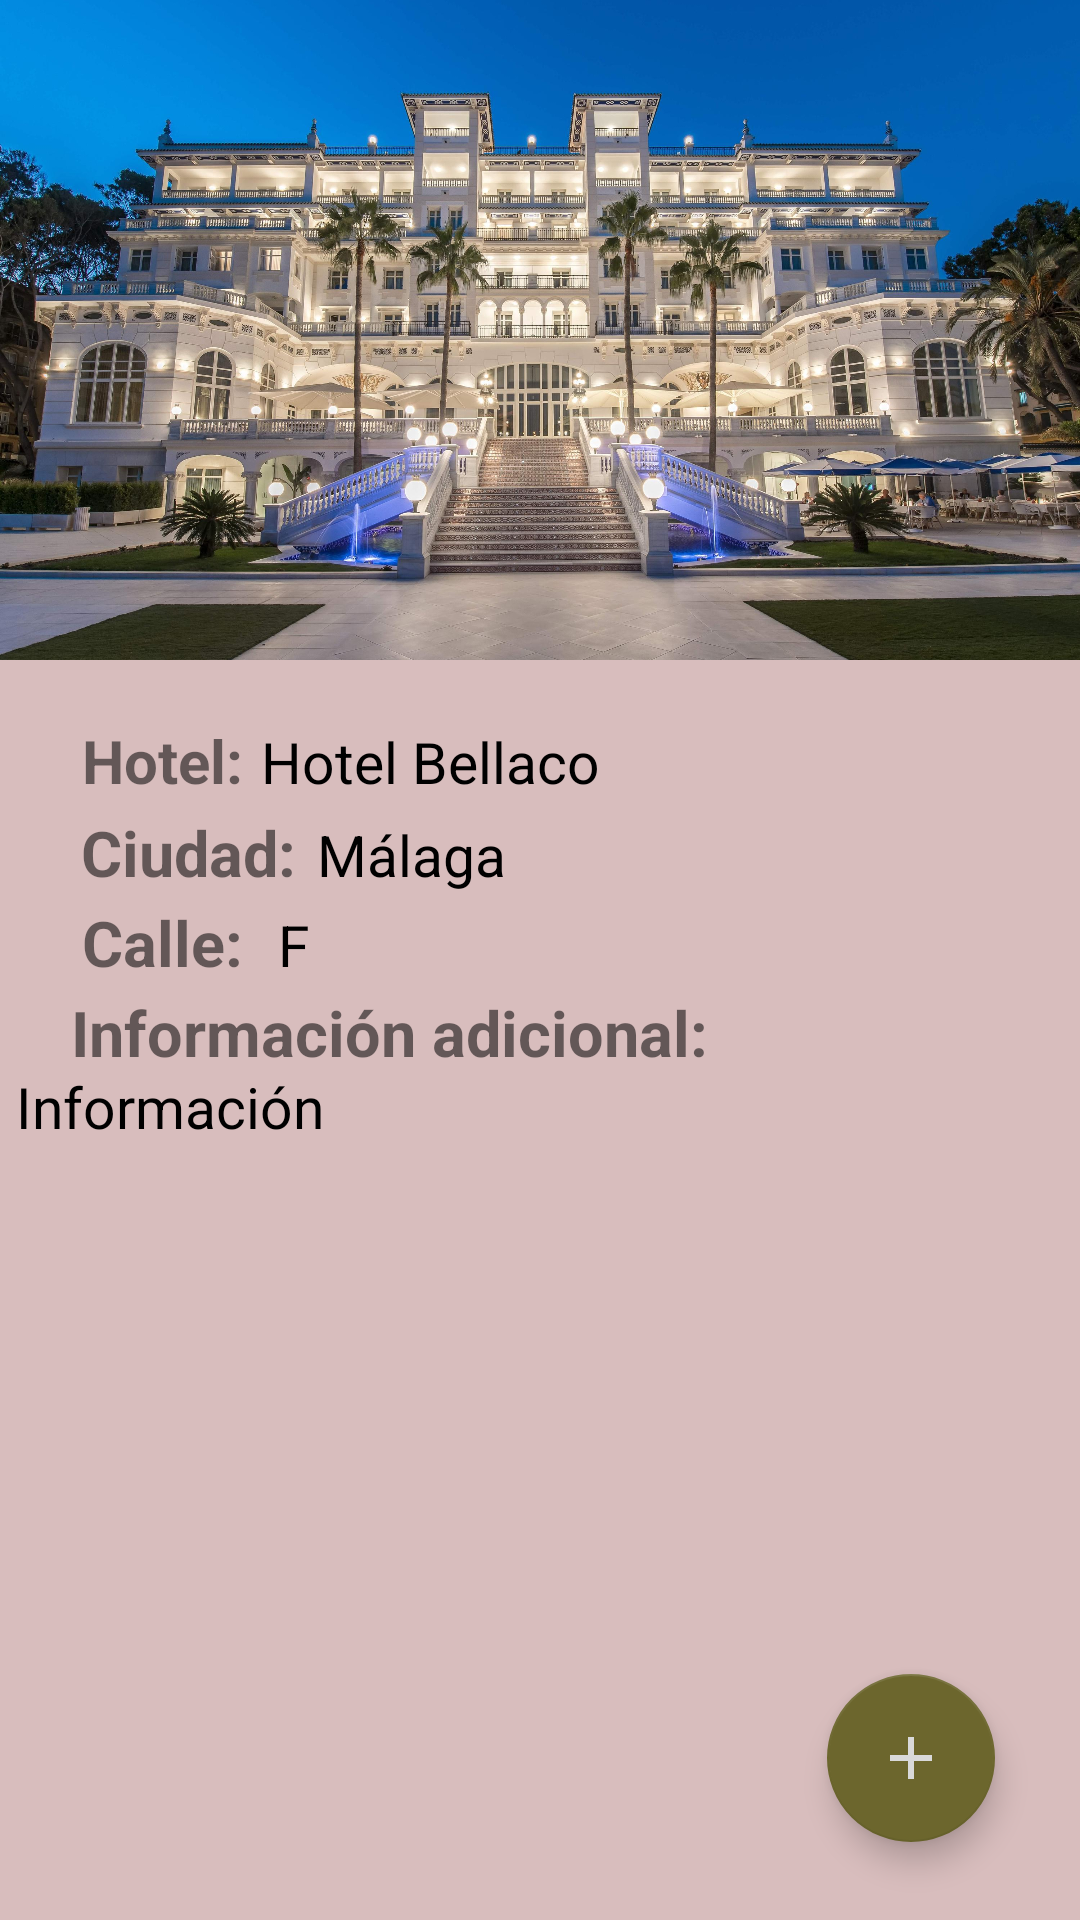

Point at icon controls on the screen. Image size 1080x1920, points as (x,y).
add: (911,1758)
